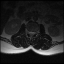CCS_normal: (30, 30, 32, 37)
LFS_normal: (35, 30, 37, 35)
LLS_normal: (32, 30, 34, 35)
RFS_normal: (26, 29, 29, 35)
RLS_normal: (28, 30, 31, 36)
